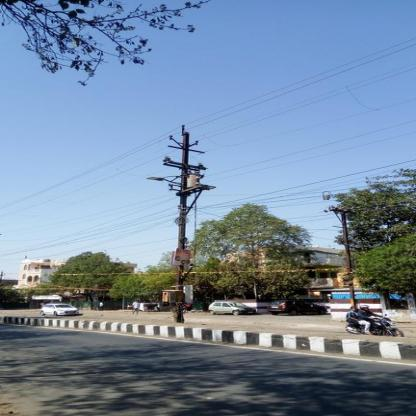Electrical Pole: (138, 123, 226, 324)
